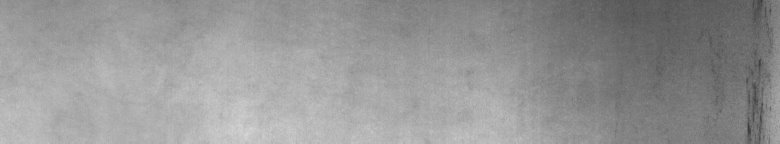ka: (700, 4, 776, 136)
